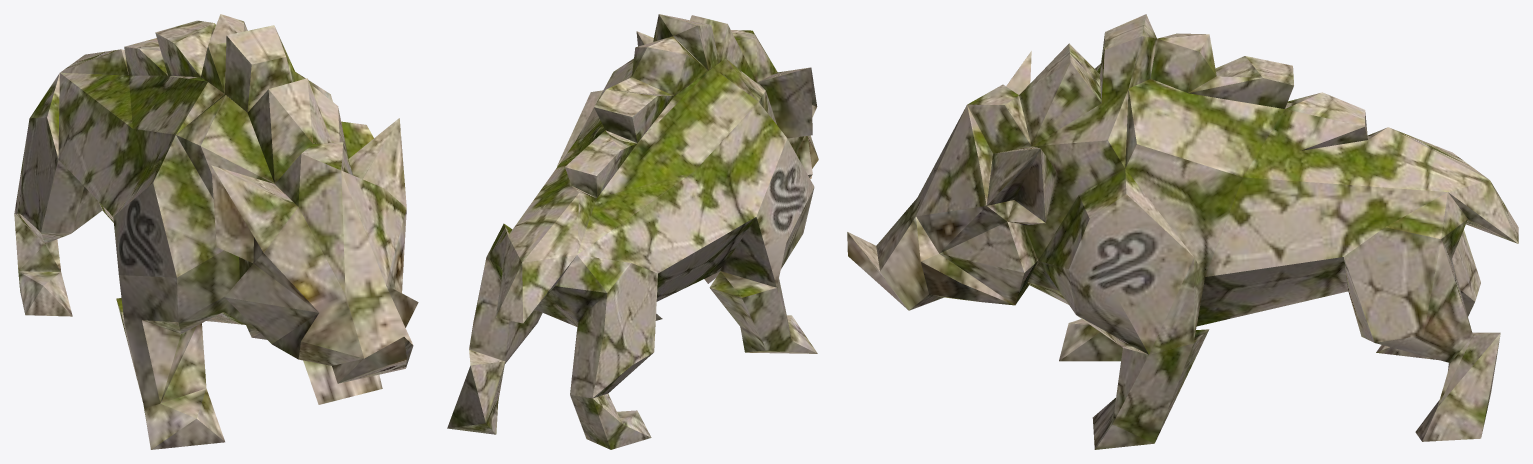
File: t_boar.glb
3 views of the same model, side by side, from view 1: azimuth 30°, elevation 25°; view 2: azimuth 150°, elevation 25°; view 3: azimuth 270°, elevation 25° (orthographic). The views are drawn at different scales.
Visible parts, largest first — view 1: t_boar; view 2: t_boar; view 3: t_boar.
Part boxes in pixels (x1,y1,x2,y2): t_boar: [14, 14, 418, 449]; t_boar: [447, 14, 818, 449]; t_boar: [847, 14, 1518, 449].
Bounding box in the file's own units: 0.7209 × 1 × 1.64.
Materials: 1 (1 with a texture image).
